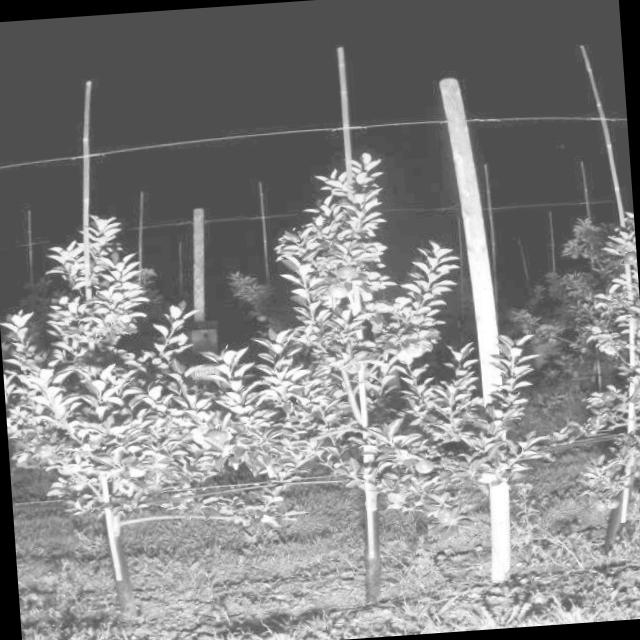Tree: (238, 153, 457, 576), (6, 215, 178, 617), (555, 206, 640, 531)
